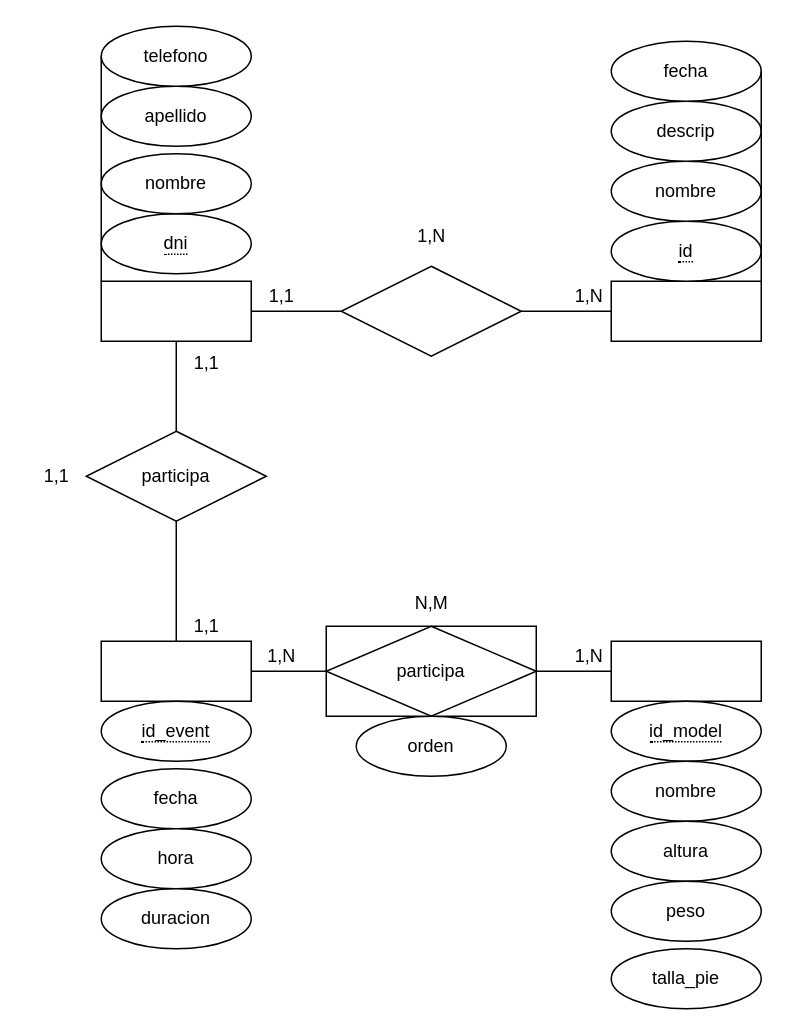
Some shapes in this 789 by 1035 pixel diagram are drawn without their labels. The shapes that lost their labels are listed below. From the top down, each one's centre as x and y in pixels, then its label:
At (x=175, y=310): "disenador".
At (x=430, y=310): "presentaciones".
At (x=685, y=310): "diseno".
At (x=175, y=670): "desfile".
At (x=685, y=670): "modelo".
